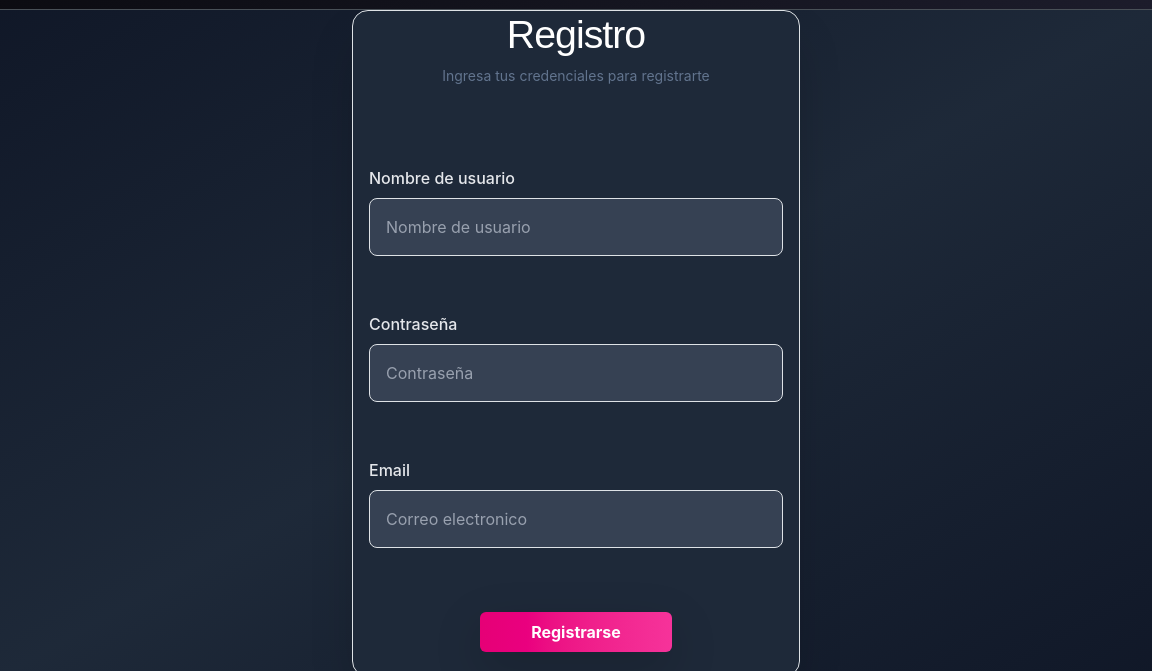
Test: Registro Component › limpia los errores cuando el usuario corrige los campos
(page scrolled)
Note: Submit vacío para generar errores
Click the button "Registrarse".
click(576, 632)  # box [480,612,672,652]
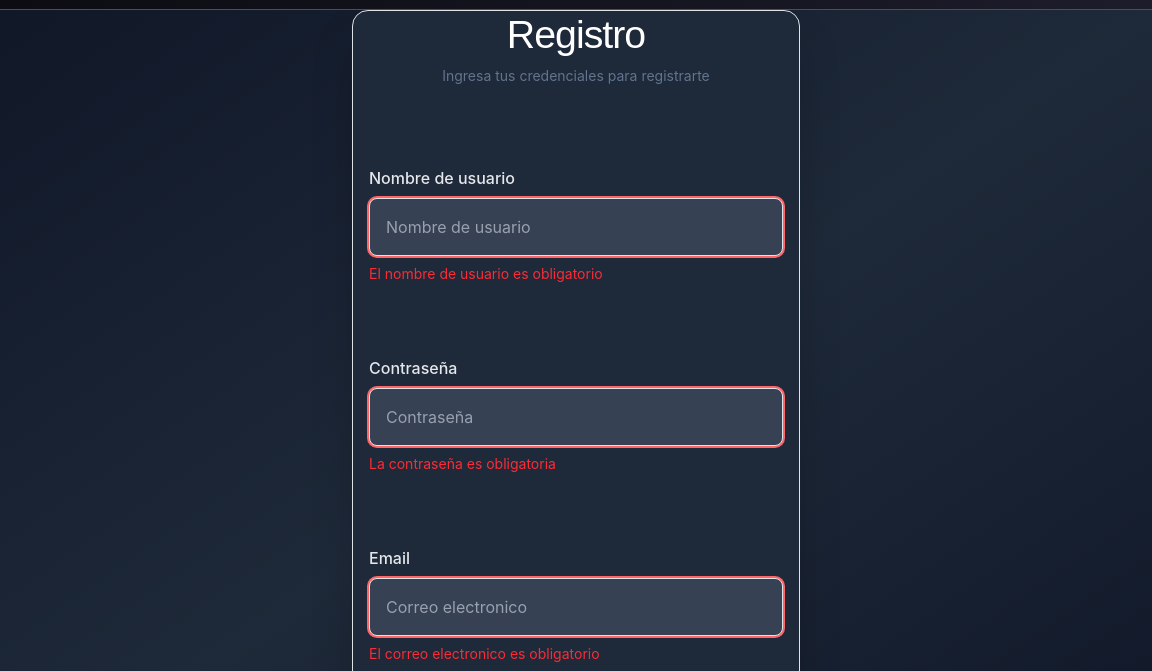
Check: the text "El nombre de usuario es obligatorio" is shown, box [369,265,603,282]
Note: Corregir el campo
Type "validuser123" into the field with placeholder "Nombre de usuario".
click(576, 227); type("validuser123")  # box [369,198,783,256]
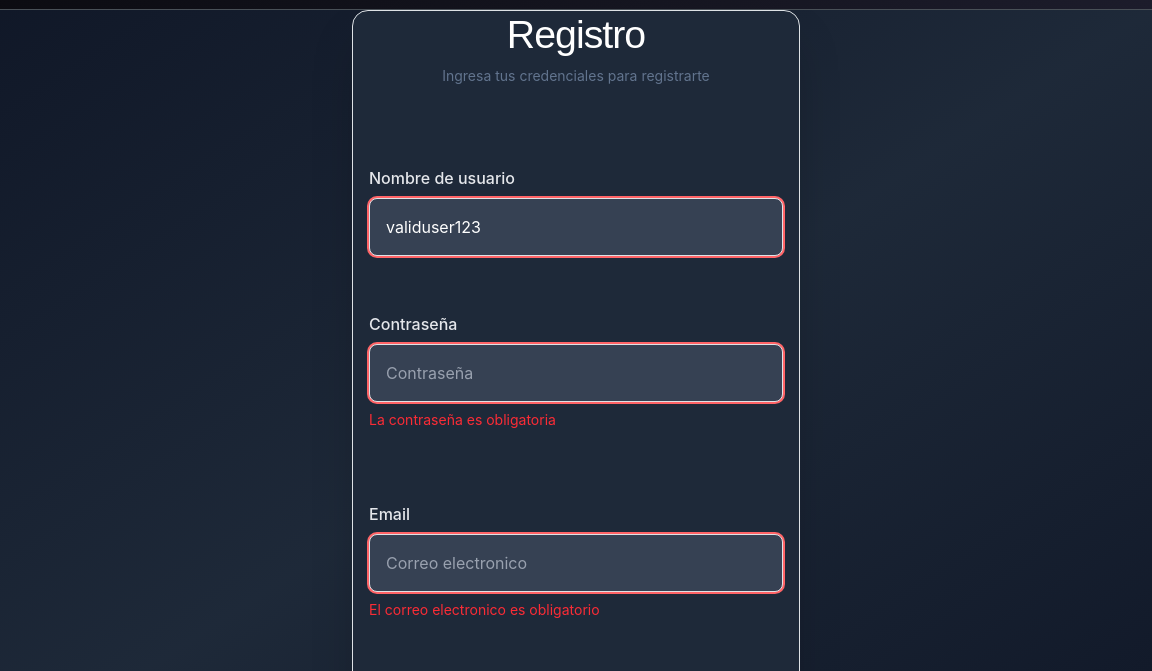
Check: the text "El nombre de usuario es obligatorio" is gone
